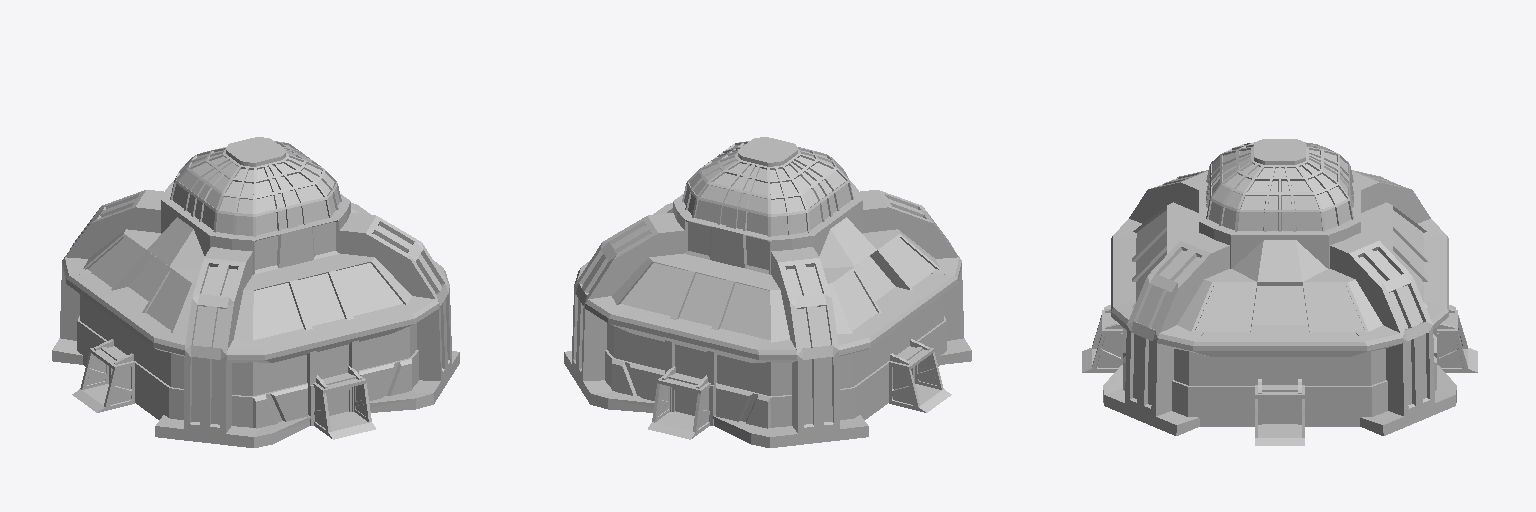
3 views of the same model, side by side, from view 1: azimuth 30°, elevation 25°; view 2: azimuth 150°, elevation 25°; view 3: azimuth 270°, elevation 25° (orthographic).
Visible parts, largest first — view 1: Plane, Plane.001, door; view 2: Plane, Plane.001, door; view 3: Plane, Plane.001, door.
Boxes of the visible parts, <box> form: Plane: <box>77,137,418,428</box>; Plane.001: <box>52,190,459,447</box>; door: <box>72,339,375,439</box>; Plane: <box>605,137,946,428</box>; Plane.001: <box>564,190,971,447</box>; door: <box>648,339,951,439</box>; Plane: <box>1121,139,1438,426</box>; Plane.001: <box>1103,170,1456,435</box>; door: <box>1082,309,1477,445</box>.
Size of the model in its own units: 7.87 by 4.65 by 7.87.